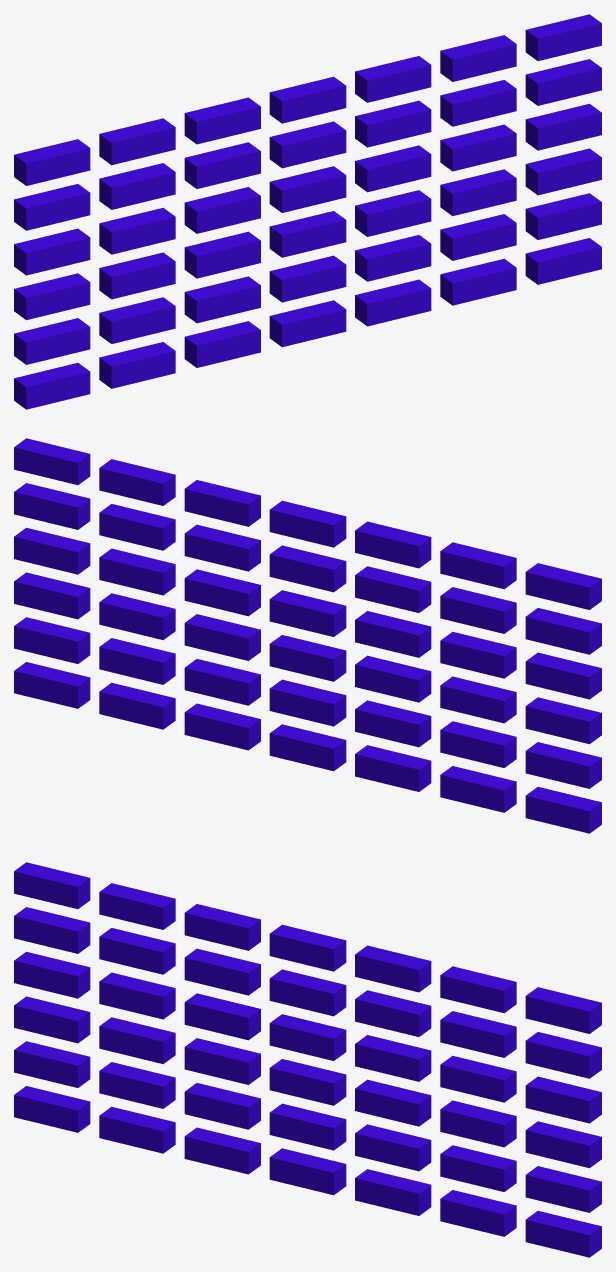
File: bloques_rigidos.glb
The picture shows the model from 3 angles, top to bottom: view 1: azimuth 30°, elevation 25°; view 2: azimuth 150°, elevation 25°; view 3: azimuth 330°, elevation 25°; orthographic projection.
Parts seen in each view (by area): view 1: bloque-rigid.019, bloque-rigid.024, bloque-rigid.021, bloque-rigid.022, bloque-rigid.020, bloque-rigid.023, bloque-rigid.012, bloque-rigid.031, bloque-rigid.004, bloque-rigid.006, bloque-rigid.011, bloque-rigid.013 (+30 smaller); view 2: bloque-rigid.019, bloque-rigid.024, bloque-rigid.021, bloque-rigid.022, bloque-rigid.020, bloque-rigid.023, bloque-rigid.012, bloque-rigid.031, bloque-rigid.004, bloque-rigid.006, bloque-rigid.011, bloque-rigid.013 (+30 smaller); view 3: bloque-rigid.019, bloque-rigid.024, bloque-rigid.021, bloque-rigid.022, bloque-rigid.020, bloque-rigid.023, bloque-rigid.007, bloque-rigid.036, bloque-rigid, bloque-rigid.001, bloque-rigid.003, bloque-rigid.008 (+30 smaller).
Boxes of the visible parts, bbox=[...] form: bloque-rigid.019: bbox=[269, 76, 346, 123]; bloque-rigid.024: bbox=[269, 300, 346, 347]; bloque-rigid.021: bbox=[269, 166, 346, 212]; bloque-rigid.022: bbox=[269, 211, 346, 257]; bloque-rigid.020: bbox=[269, 121, 346, 168]; bloque-rigid.023: bbox=[269, 255, 346, 302]; bloque-rigid.012: bbox=[99, 342, 175, 388]; bloque-rigid.031: bbox=[440, 35, 516, 81]; bloque-rigid.004: bbox=[14, 273, 90, 320]; bloque-rigid.006: bbox=[14, 363, 90, 409]; bloque-rigid.011: bbox=[99, 297, 175, 343]; bloque-rigid.013: bbox=[184, 97, 260, 144]; bloque-rigid.019: bbox=[269, 500, 346, 547]; bloque-rigid.024: bbox=[269, 724, 346, 771]; bloque-rigid.021: bbox=[269, 590, 346, 636]; bloque-rigid.022: bbox=[269, 635, 346, 681]; bloque-rigid.020: bbox=[269, 545, 346, 592]; bloque-rigid.023: bbox=[269, 679, 346, 726]; bloque-rigid.012: bbox=[440, 766, 516, 812]; bloque-rigid.031: bbox=[99, 459, 175, 505]; bloque-rigid.004: bbox=[525, 697, 601, 744]; bloque-rigid.006: bbox=[525, 787, 601, 833]; bloque-rigid.011: bbox=[440, 721, 516, 767]; bloque-rigid.013: bbox=[355, 521, 431, 568]; bloque-rigid.019: bbox=[269, 924, 346, 971]; bloque-rigid.024: bbox=[269, 1148, 346, 1195]; bloque-rigid.021: bbox=[269, 1014, 346, 1060]; bloque-rigid.022: bbox=[269, 1059, 346, 1105]; bloque-rigid.020: bbox=[269, 969, 346, 1016]; bloque-rigid.023: bbox=[269, 1103, 346, 1150]; bloque-rigid.007: bbox=[99, 883, 175, 929]; bloque-rigid.036: bbox=[440, 1190, 516, 1236]; bloque-rigid: bbox=[525, 1211, 601, 1257]; bloque-rigid.001: bbox=[14, 862, 90, 908]; bloque-rigid.003: bbox=[14, 951, 90, 998]; bloque-rigid.008: bbox=[99, 928, 175, 974].
Size of the model in its own units: 26.94 by 11 by 1.
